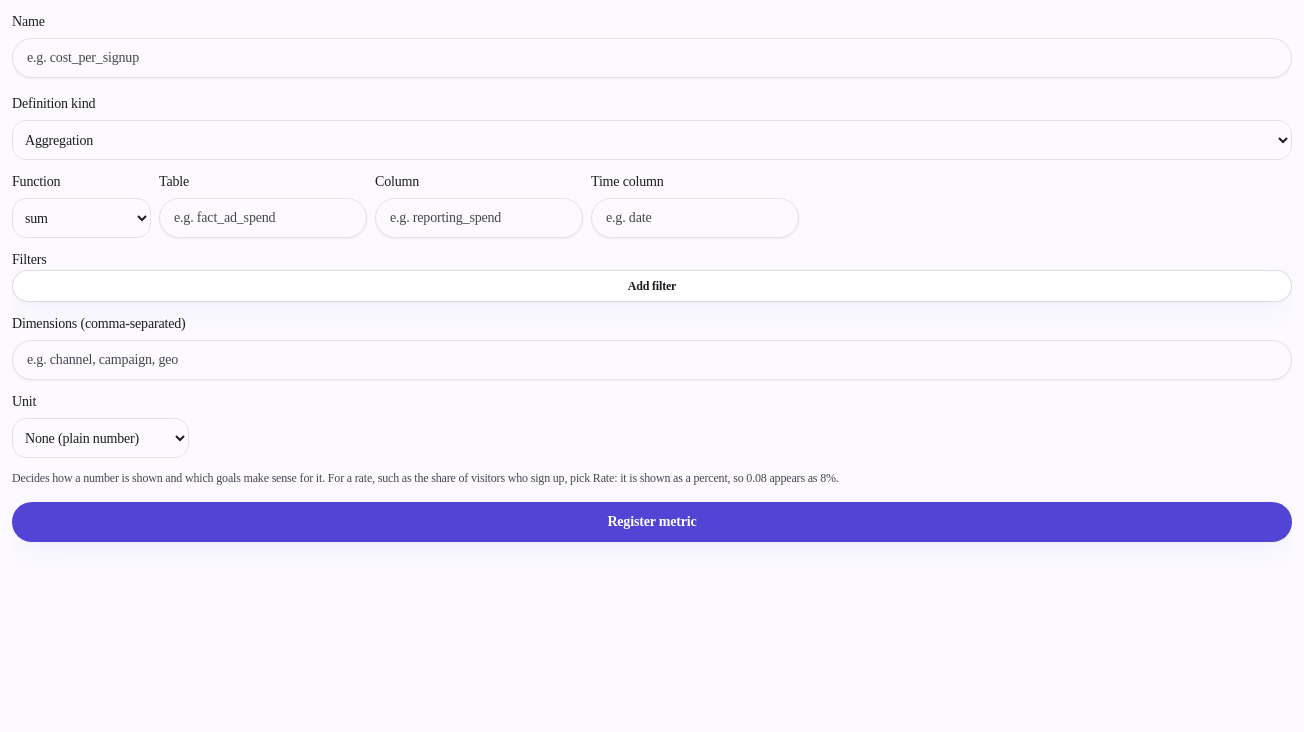
Test: RegisterMetricDefForm › shows a specific error for a duplicate metric, a generic one otherwise
In the field labelled "Name": (652, 58) [12,38,1292,78], type "ad_spend"
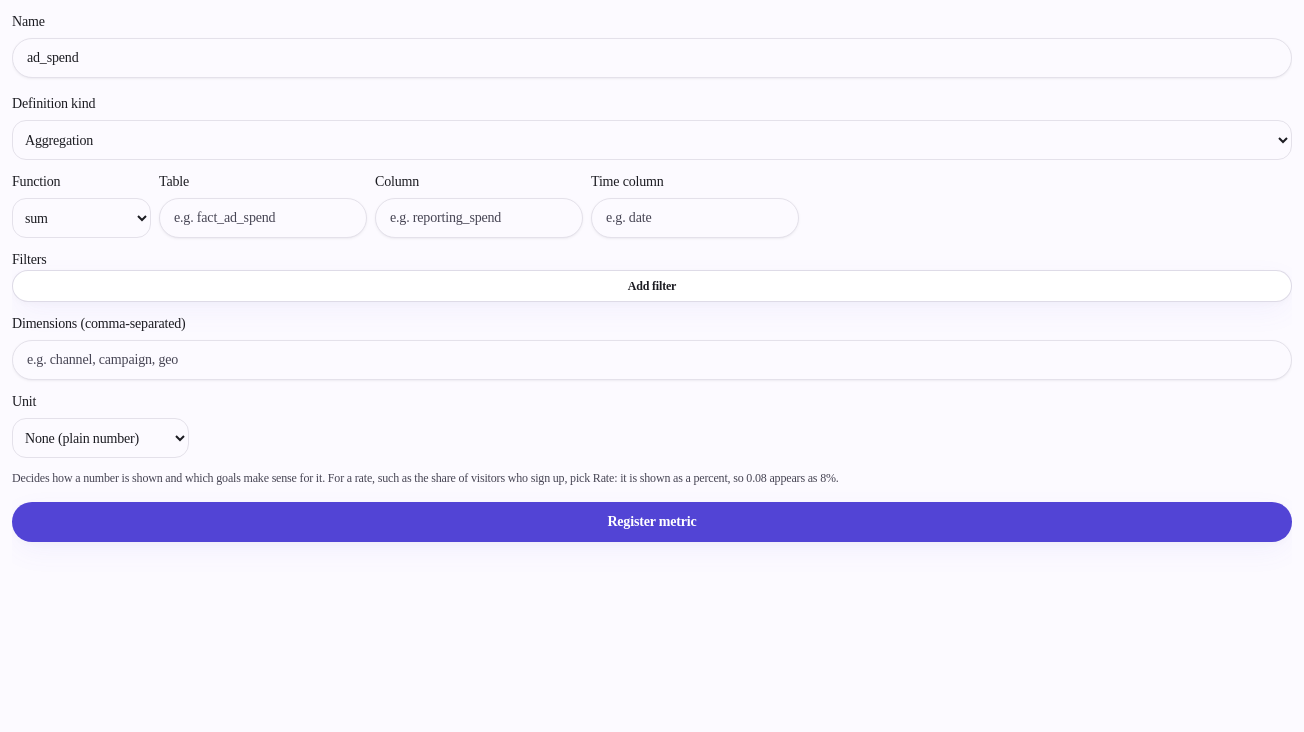
Click the button "Register metric": (652, 522) [12,502,1292,542]
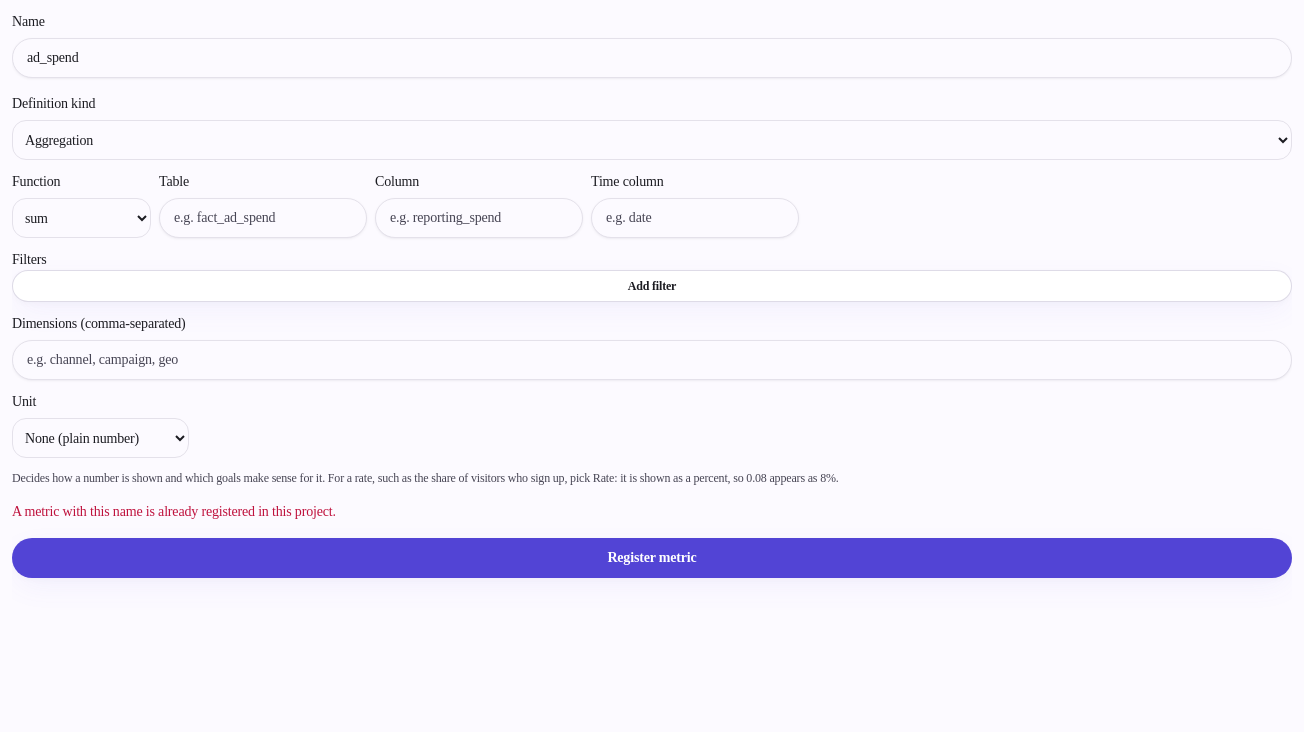
Check: the message reads "A metric with this name is already registered in this project.", box [12,504,336,519]
